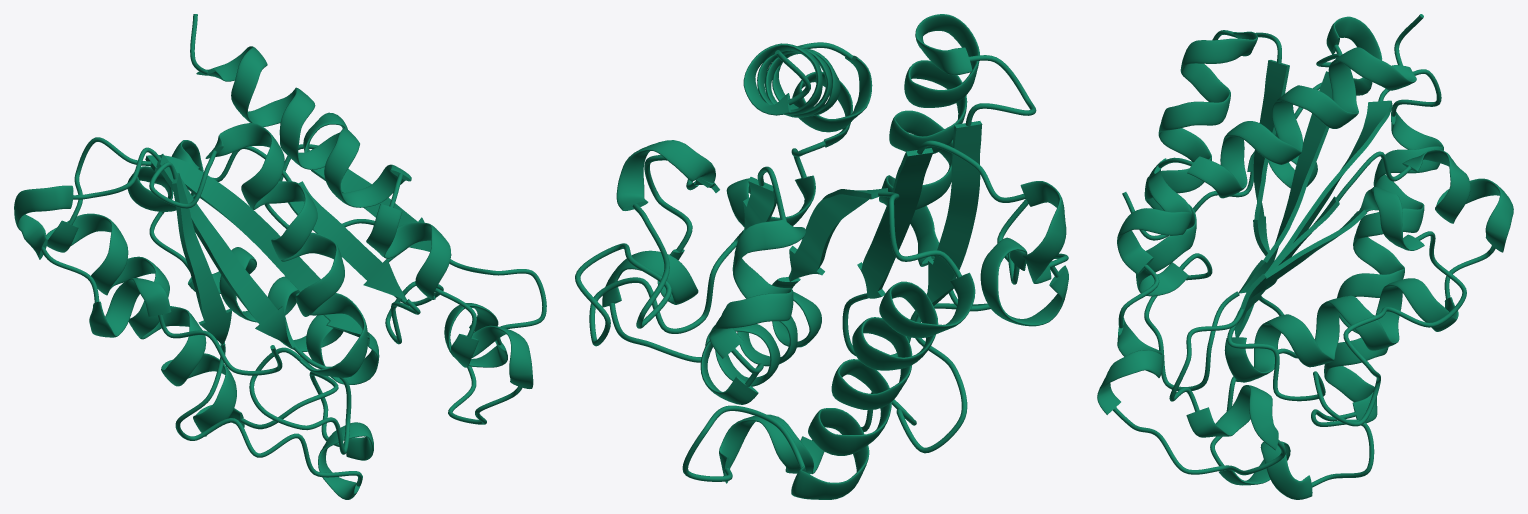
File: 1OXM.glb
3 views of the same model, side by side, from view 1: azimuth 30°, elevation 25°; view 2: azimuth 150°, elevation 25°; view 3: azimuth 270°, elevation 25° (orthographic). The views are drawn at different scales.
Size of the model in its own units: 43.25 by 40.83 by 34.98.
